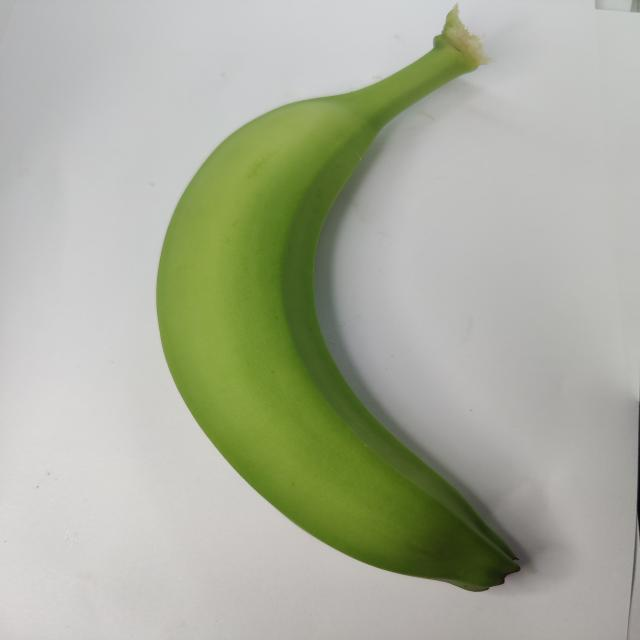raw: (126, 15, 583, 601)
